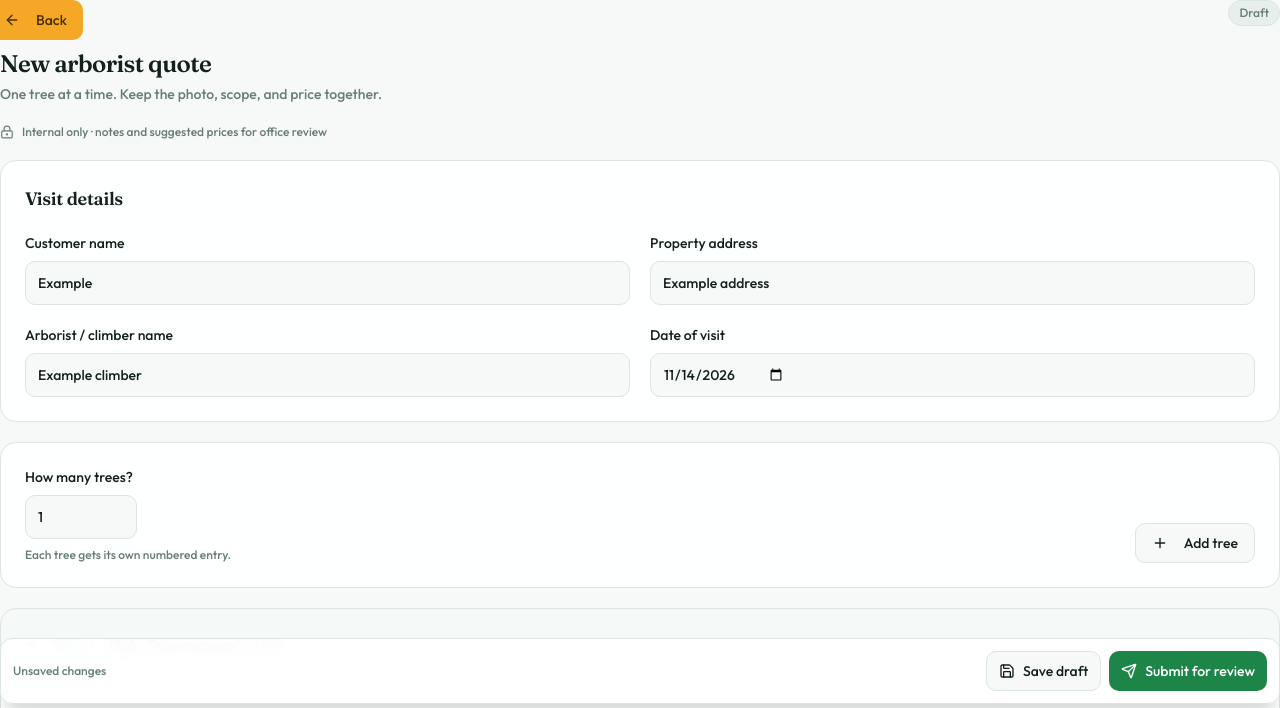
Test: arborist quote editor › does not submit after a photo upload fails, and retries against the saved draft
Earlier steps of the test are not shown.
Later steps or results of the test are not shown.
Click the button "Submit for review".
click(1188, 671)  # box left=1109, top=651, right=1267, bottom=691
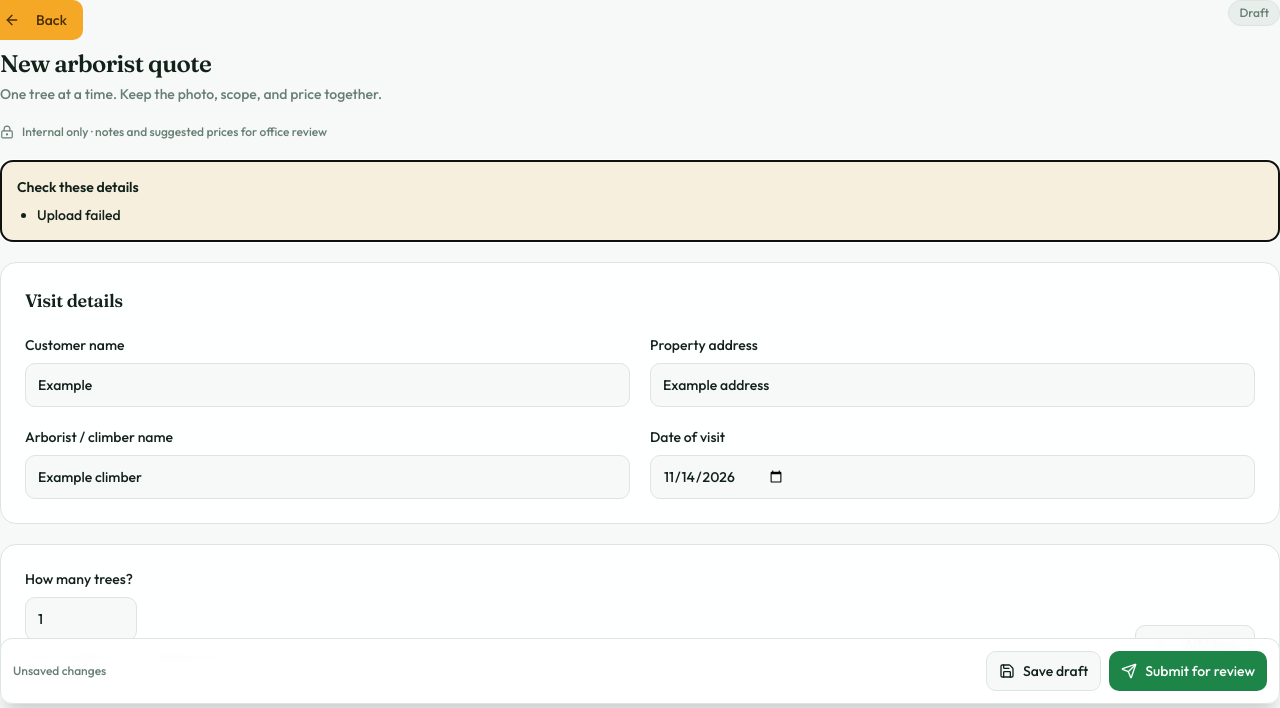
Expected: the message "Check these details Upload failed" is shown, left=0, top=160, right=1279, bottom=242
